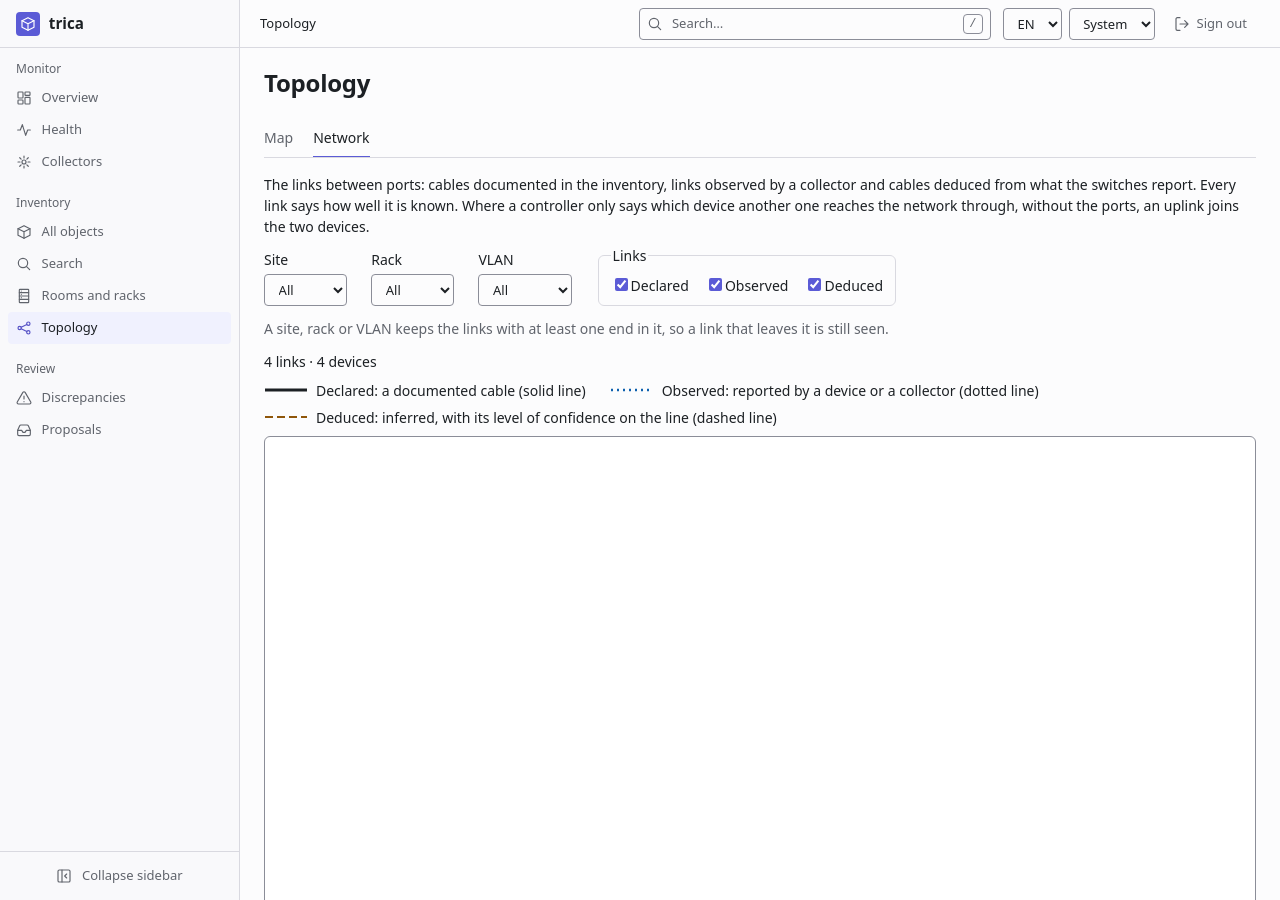
filters › says when nothing matches
The image size is (1280, 900).
Check: the heading "Topology" is shown, box [264,66,370,99]
Select "VLAN 10" in the dropdown labelled "VLAN": (525, 290) [478,274,572,306]
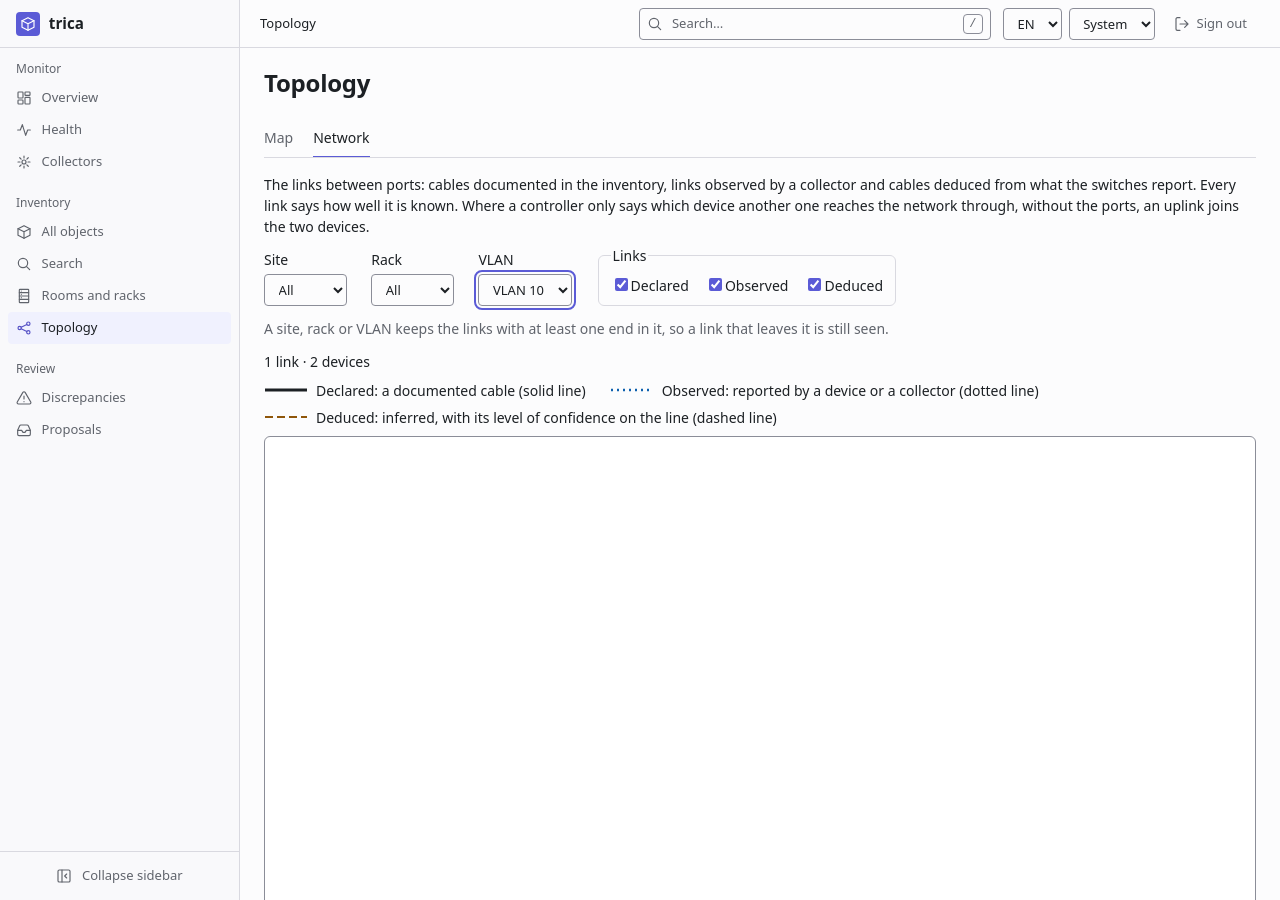
Click the checkbox labelled "Deduced": (815, 284) [808,278,821,291]
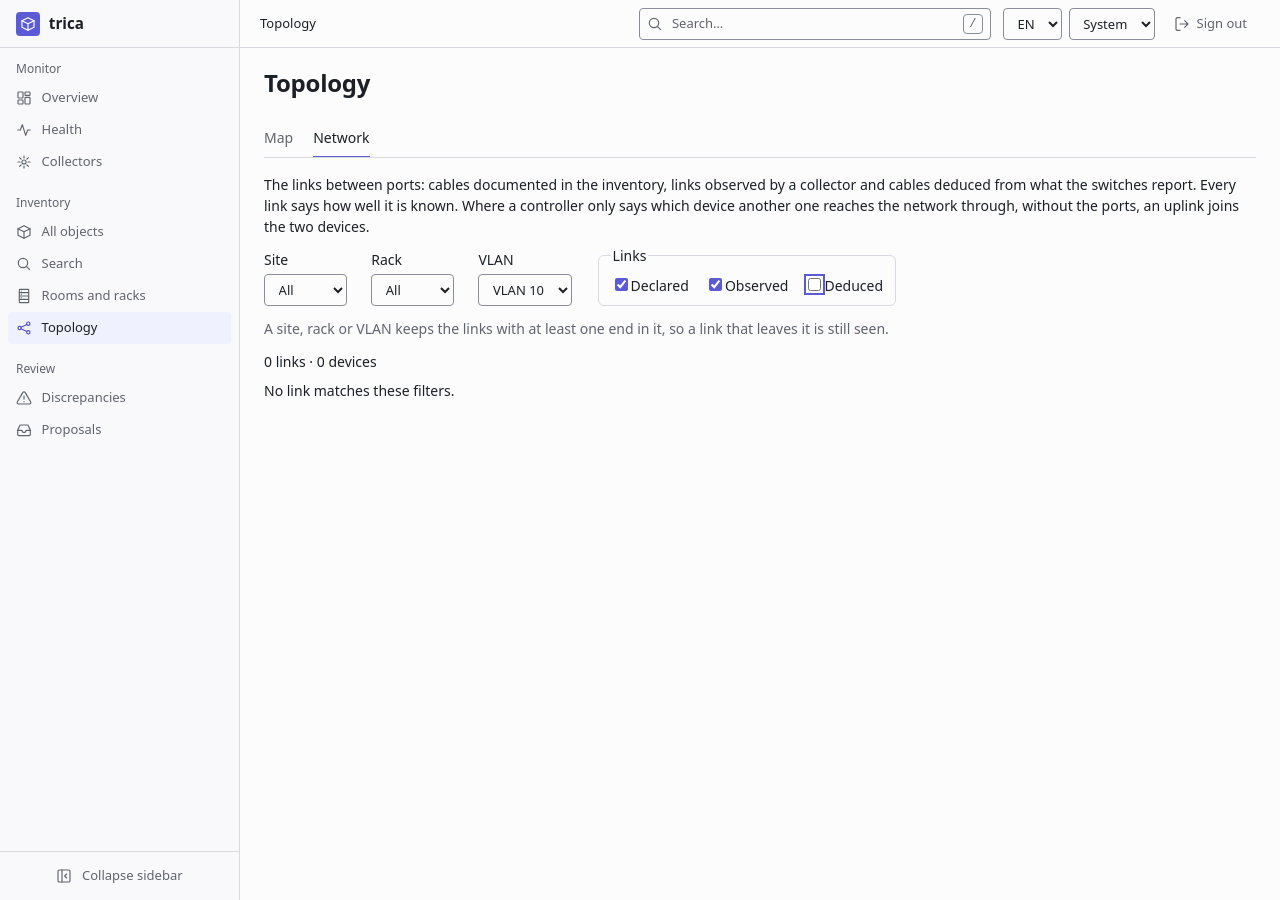
Check: the text "No link matches these filters." is shown, box [264,381,454,400]
